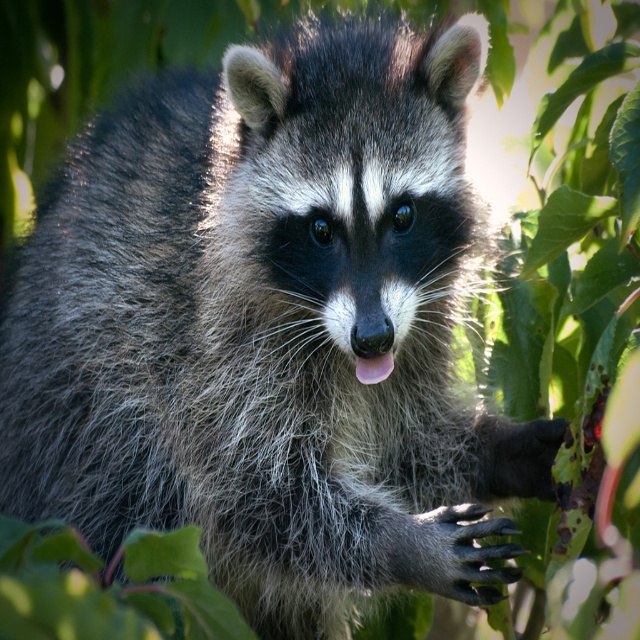Raccoon: (0, 0, 593, 640)
